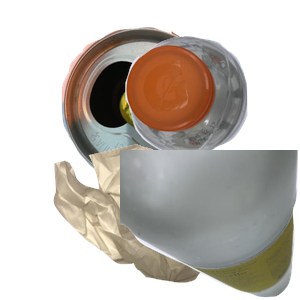glass: (120, 150, 300, 300)
metal: (59, 10, 273, 189)
plastic: (123, 33, 300, 181)
trash: (51, 142, 278, 300)
